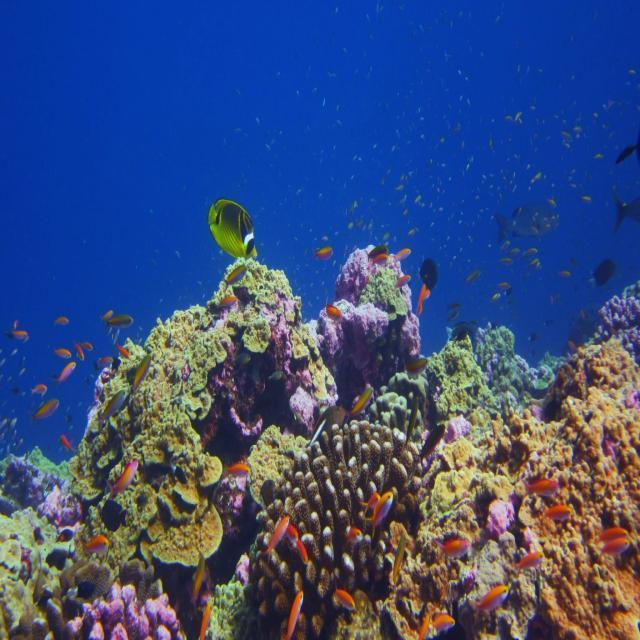Healthy Coral: (432, 274, 638, 640), (72, 269, 220, 586), (253, 371, 421, 640), (27, 552, 200, 636)
